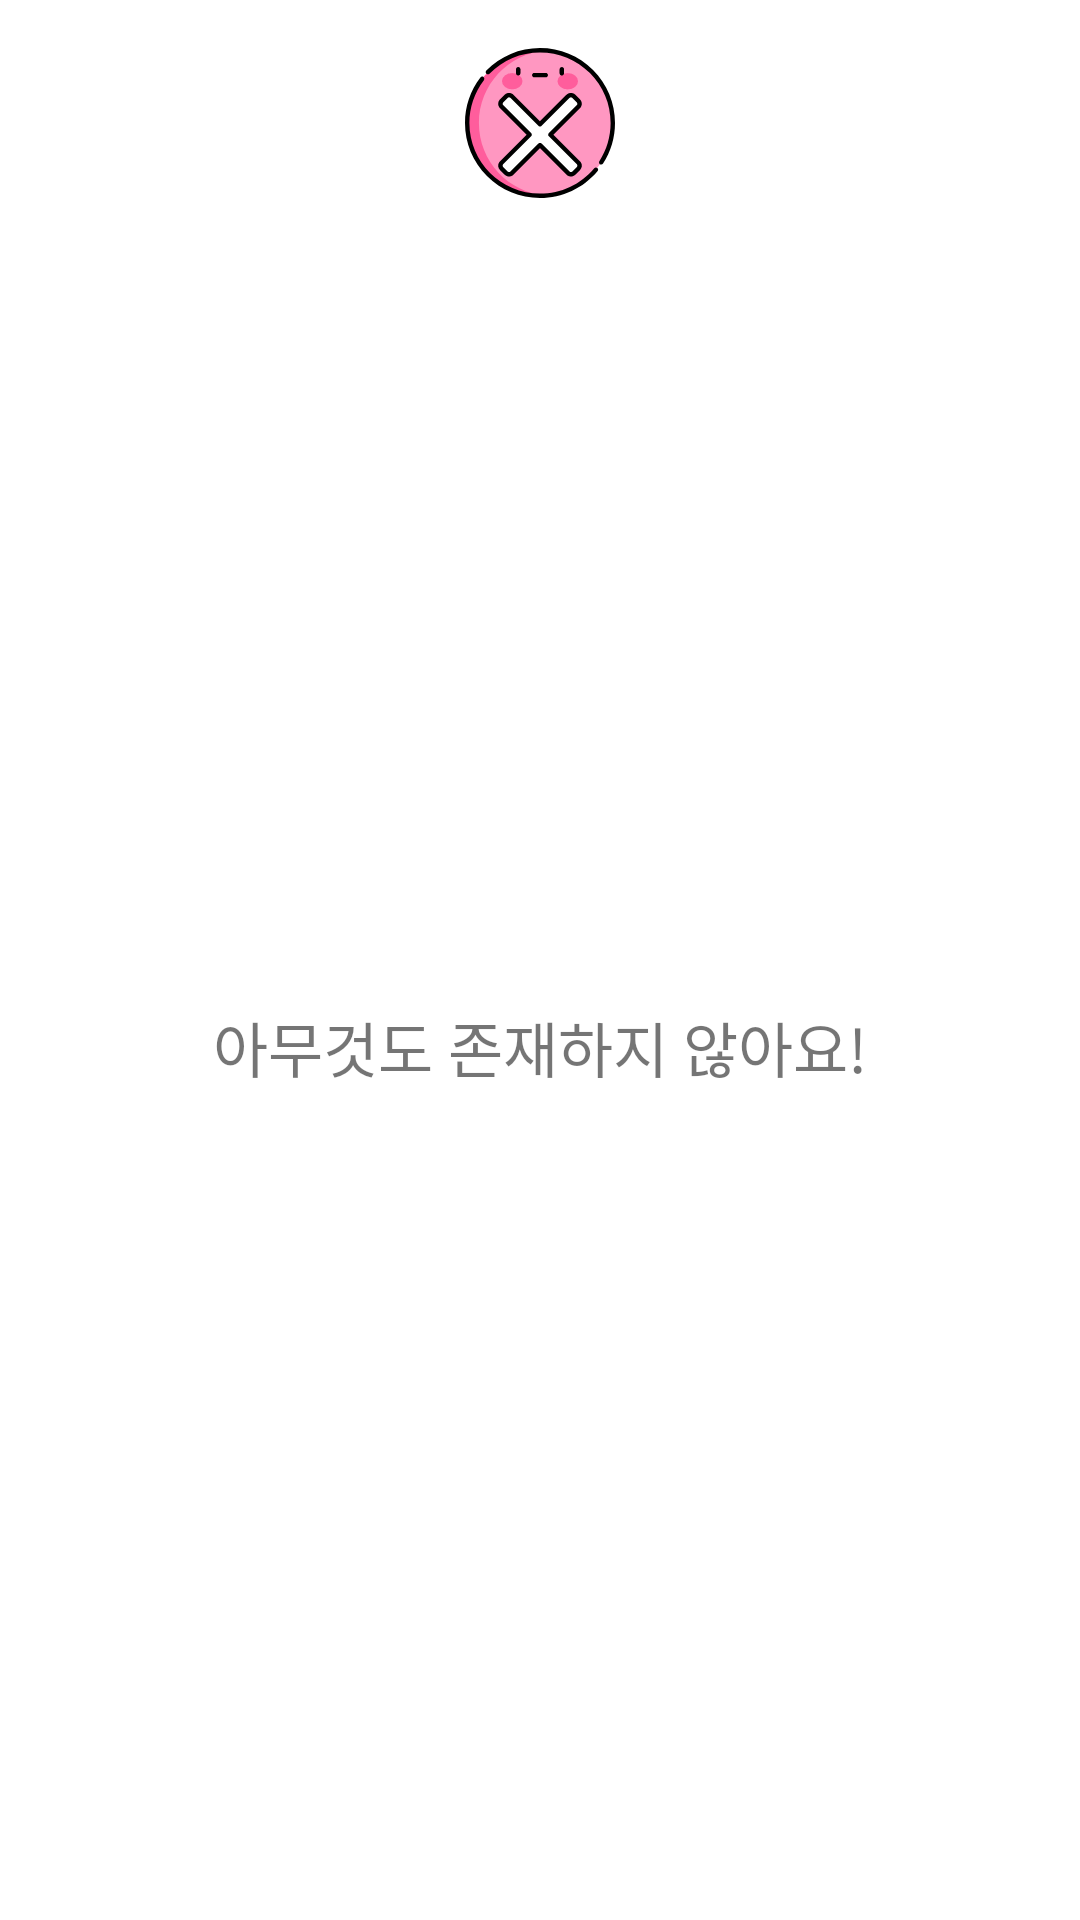

Screen size 1080 x 1920. Icon name, then its box in pixels as bbox=(x1, y1, x2, y2):
cancel: bbox=(465, 48, 615, 198)
